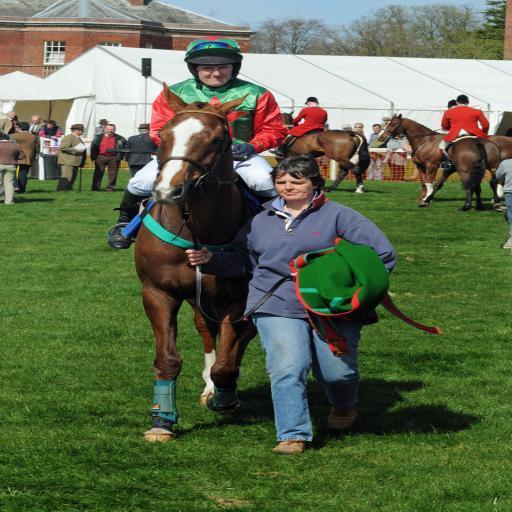horse: (127, 81, 271, 443), (372, 112, 502, 210), (274, 109, 370, 193)
